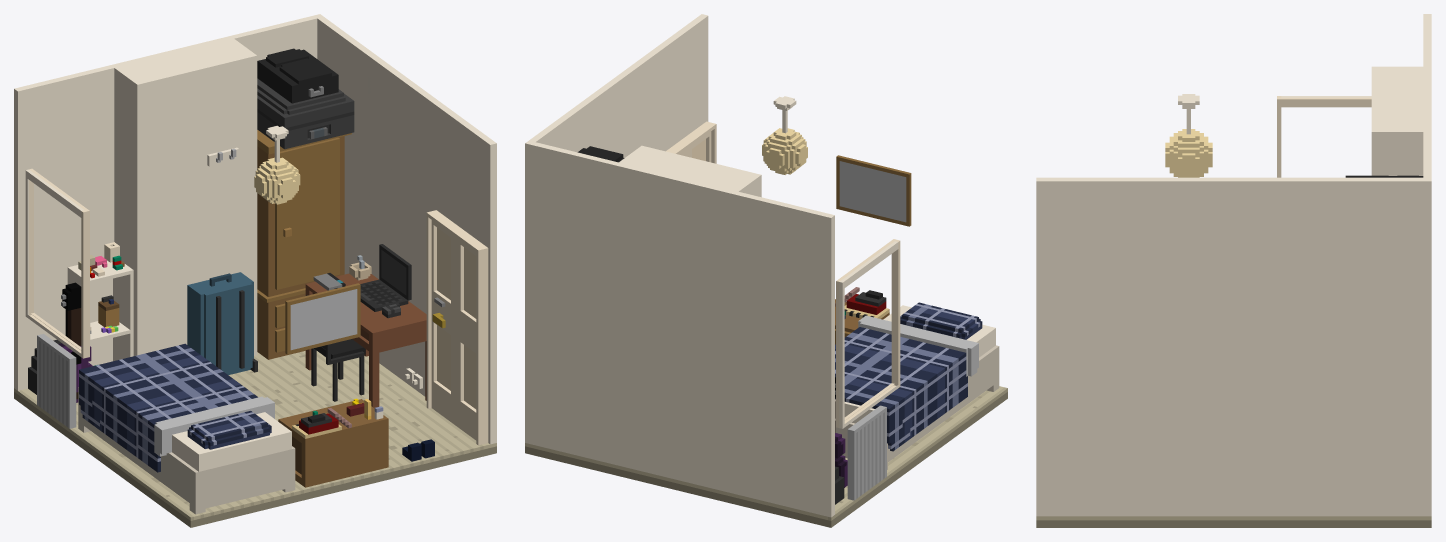
Rendered from replica_of_my_cozy_room.glb.
3 views of the same model, side by side, from view 1: azimuth 30°, elevation 25°; view 2: azimuth 150°, elevation 25°; view 3: azimuth 270°, elevation 25° (orthographic). The views are drawn at different scales.
Visible parts, largest first — view 1: Object_3; view 2: Object_3; view 3: Object_3.
Part boxes in pixels (left/top/right/bottom): Object_3: left=14, top=14, right=496, bottom=527; Object_3: left=525, top=14, right=1007, bottom=527; Object_3: left=1036, top=14, right=1431, bottom=527.
Bounding box in the file's own units: 92 × 89 × 92.
1 material, 1 textured.
